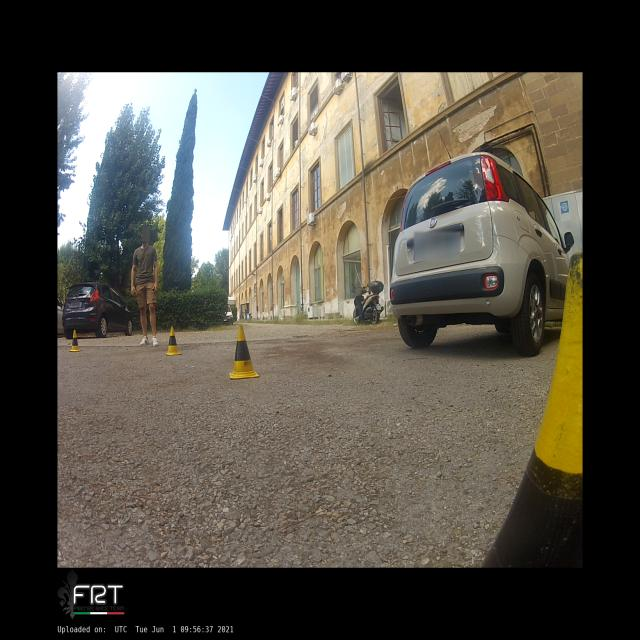yellow_cone: (479, 249, 582, 567), (228, 325, 260, 379), (165, 326, 182, 356), (69, 329, 82, 352)
